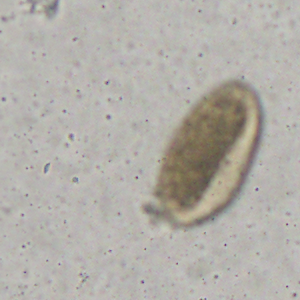Fasciola_hepatica_egg: (151, 77, 265, 228)
